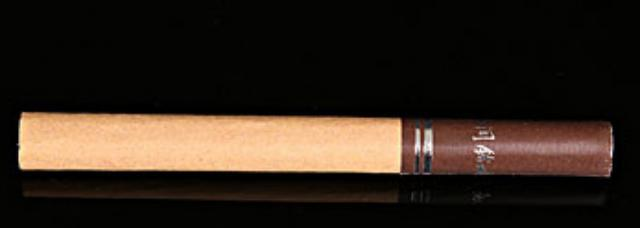Smoking: (20, 110, 612, 177)
